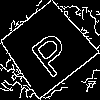P: (22, 23, 77, 80)
